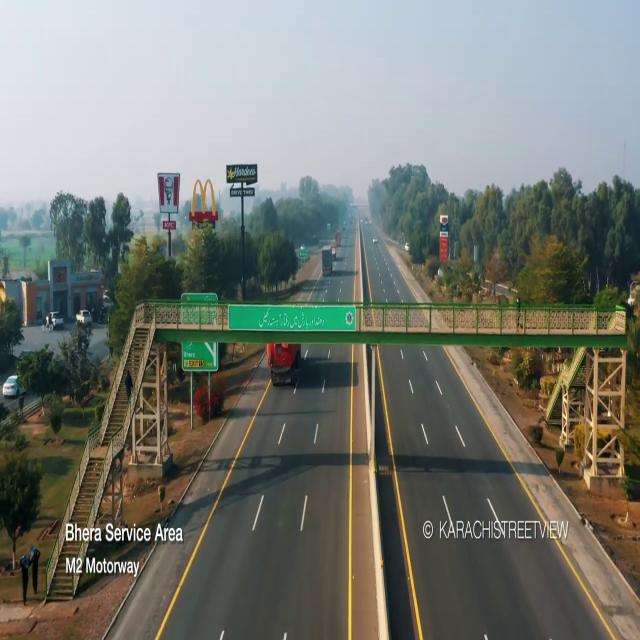car: (3, 375, 21, 400)
truck: (322, 242, 334, 278), (333, 228, 344, 252)
